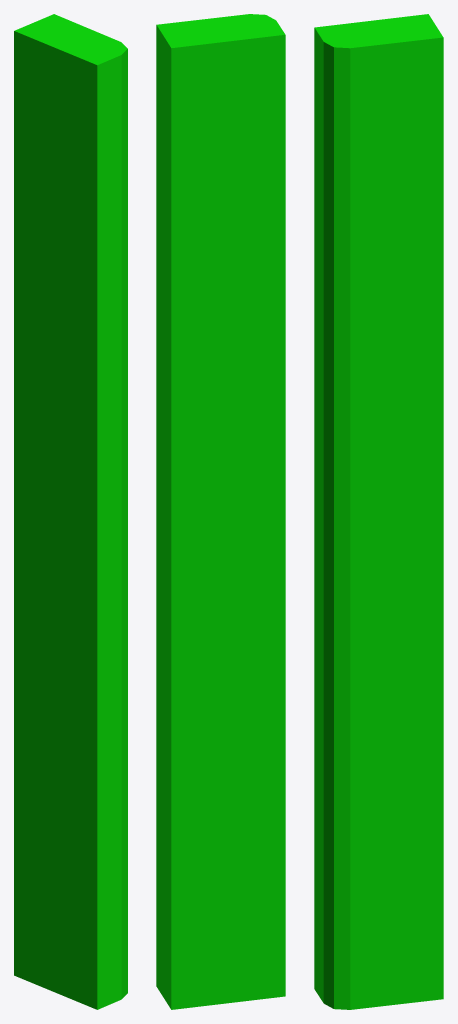
The picture shows the model from 3 angles, left to right: view 1: azimuth 90°, elevation 25°; view 2: azimuth 150°, elevation 25°; view 3: azimuth 330°, elevation 25°; orthographic projection.
Parts seen in each view (by area): view 1: Cube.038; view 2: Cube.038; view 3: Cube.038.
Boxes of the visible parts, x1=… form: Cube.038: x1=14, y1=14, x2=127, y2=1009; Cube.038: x1=156, y1=14, x2=285, y2=1009; Cube.038: x1=314, y1=14, x2=443, y2=1009.
Bounding box in the file's own units: 1250 × 10733 × 1171.
